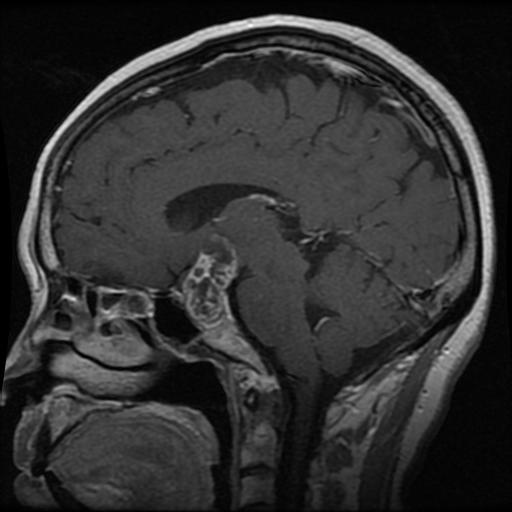Pituirity_tumour: (180, 233, 236, 325)
